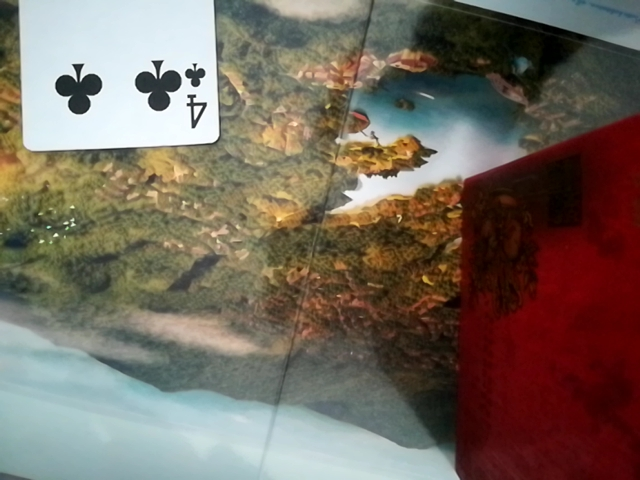mh 4: (8, 0, 213, 152)
